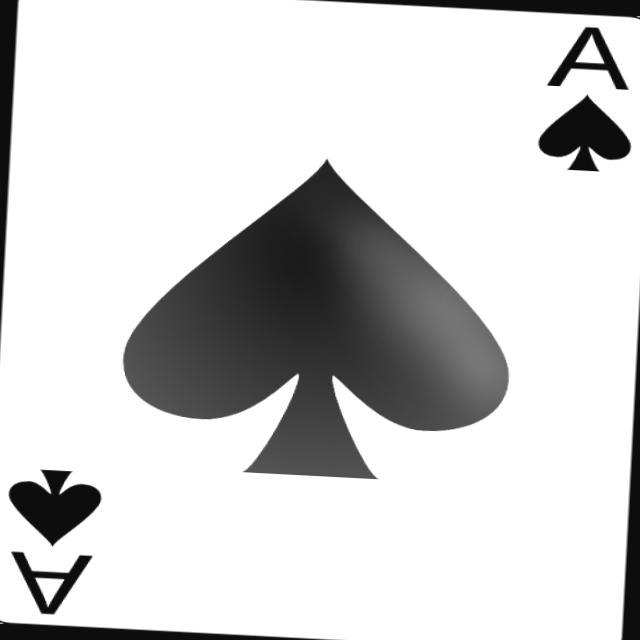Spade: (116, 148, 520, 487), (536, 92, 634, 174), (5, 468, 104, 548)
